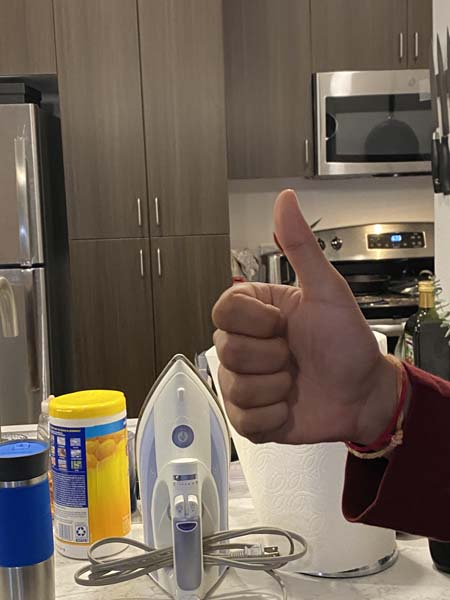Thumbs Up: (204, 181, 385, 466)
